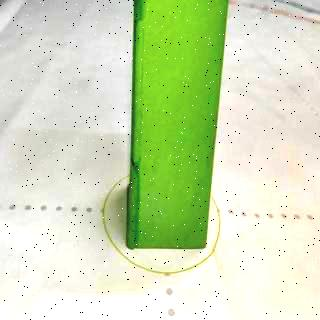greenbox: (128, 0, 232, 248)
